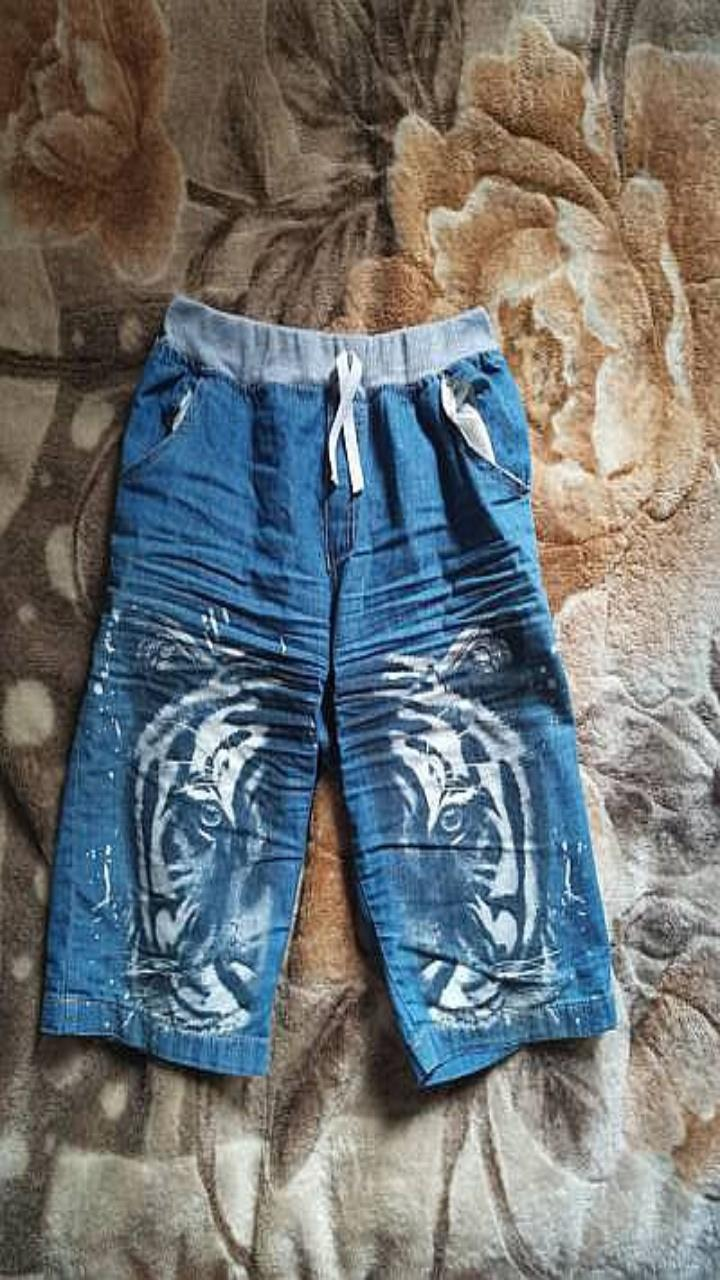Shorts: (41, 293, 616, 1085)
